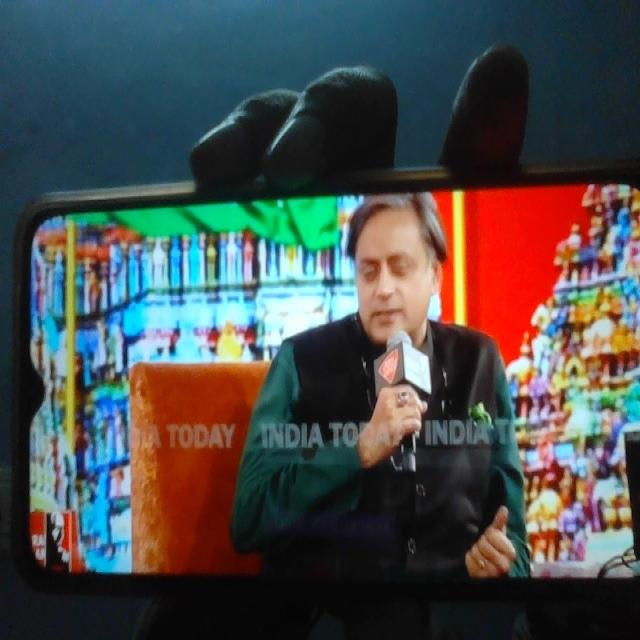fake: (327, 141, 459, 391)
